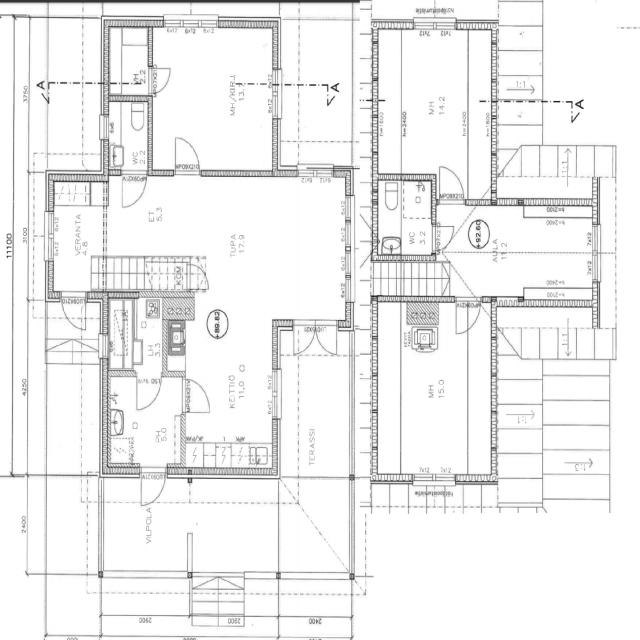door: (294, 319, 340, 357), (172, 132, 204, 176), (139, 462, 168, 507), (435, 162, 466, 204), (120, 167, 148, 211), (183, 375, 213, 415), (454, 295, 482, 335), (60, 292, 87, 332), (135, 375, 162, 412), (150, 63, 173, 94), (433, 221, 454, 250), (352, 574, 368, 597)
window: (341, 189, 356, 270), (268, 364, 283, 425), (411, 17, 458, 34), (43, 209, 56, 263), (414, 470, 460, 485), (296, 163, 334, 179), (270, 80, 283, 122), (590, 238, 602, 283), (98, 110, 110, 144)
zone: (162, 29, 277, 172), (544, 0, 632, 134), (398, 29, 468, 178), (292, 15, 353, 154), (110, 377, 186, 470), (49, 199, 108, 293), (43, 478, 93, 578), (106, 96, 152, 172), (106, 27, 151, 98), (108, 375, 140, 471), (131, 295, 167, 377), (400, 180, 432, 257), (107, 296, 138, 372), (373, 178, 402, 258), (183, 375, 213, 415)
